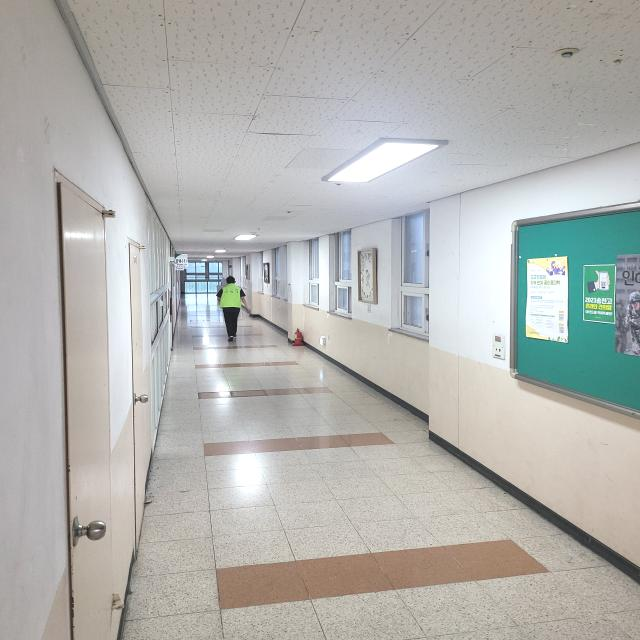weston_spy: (213, 278, 251, 314)
